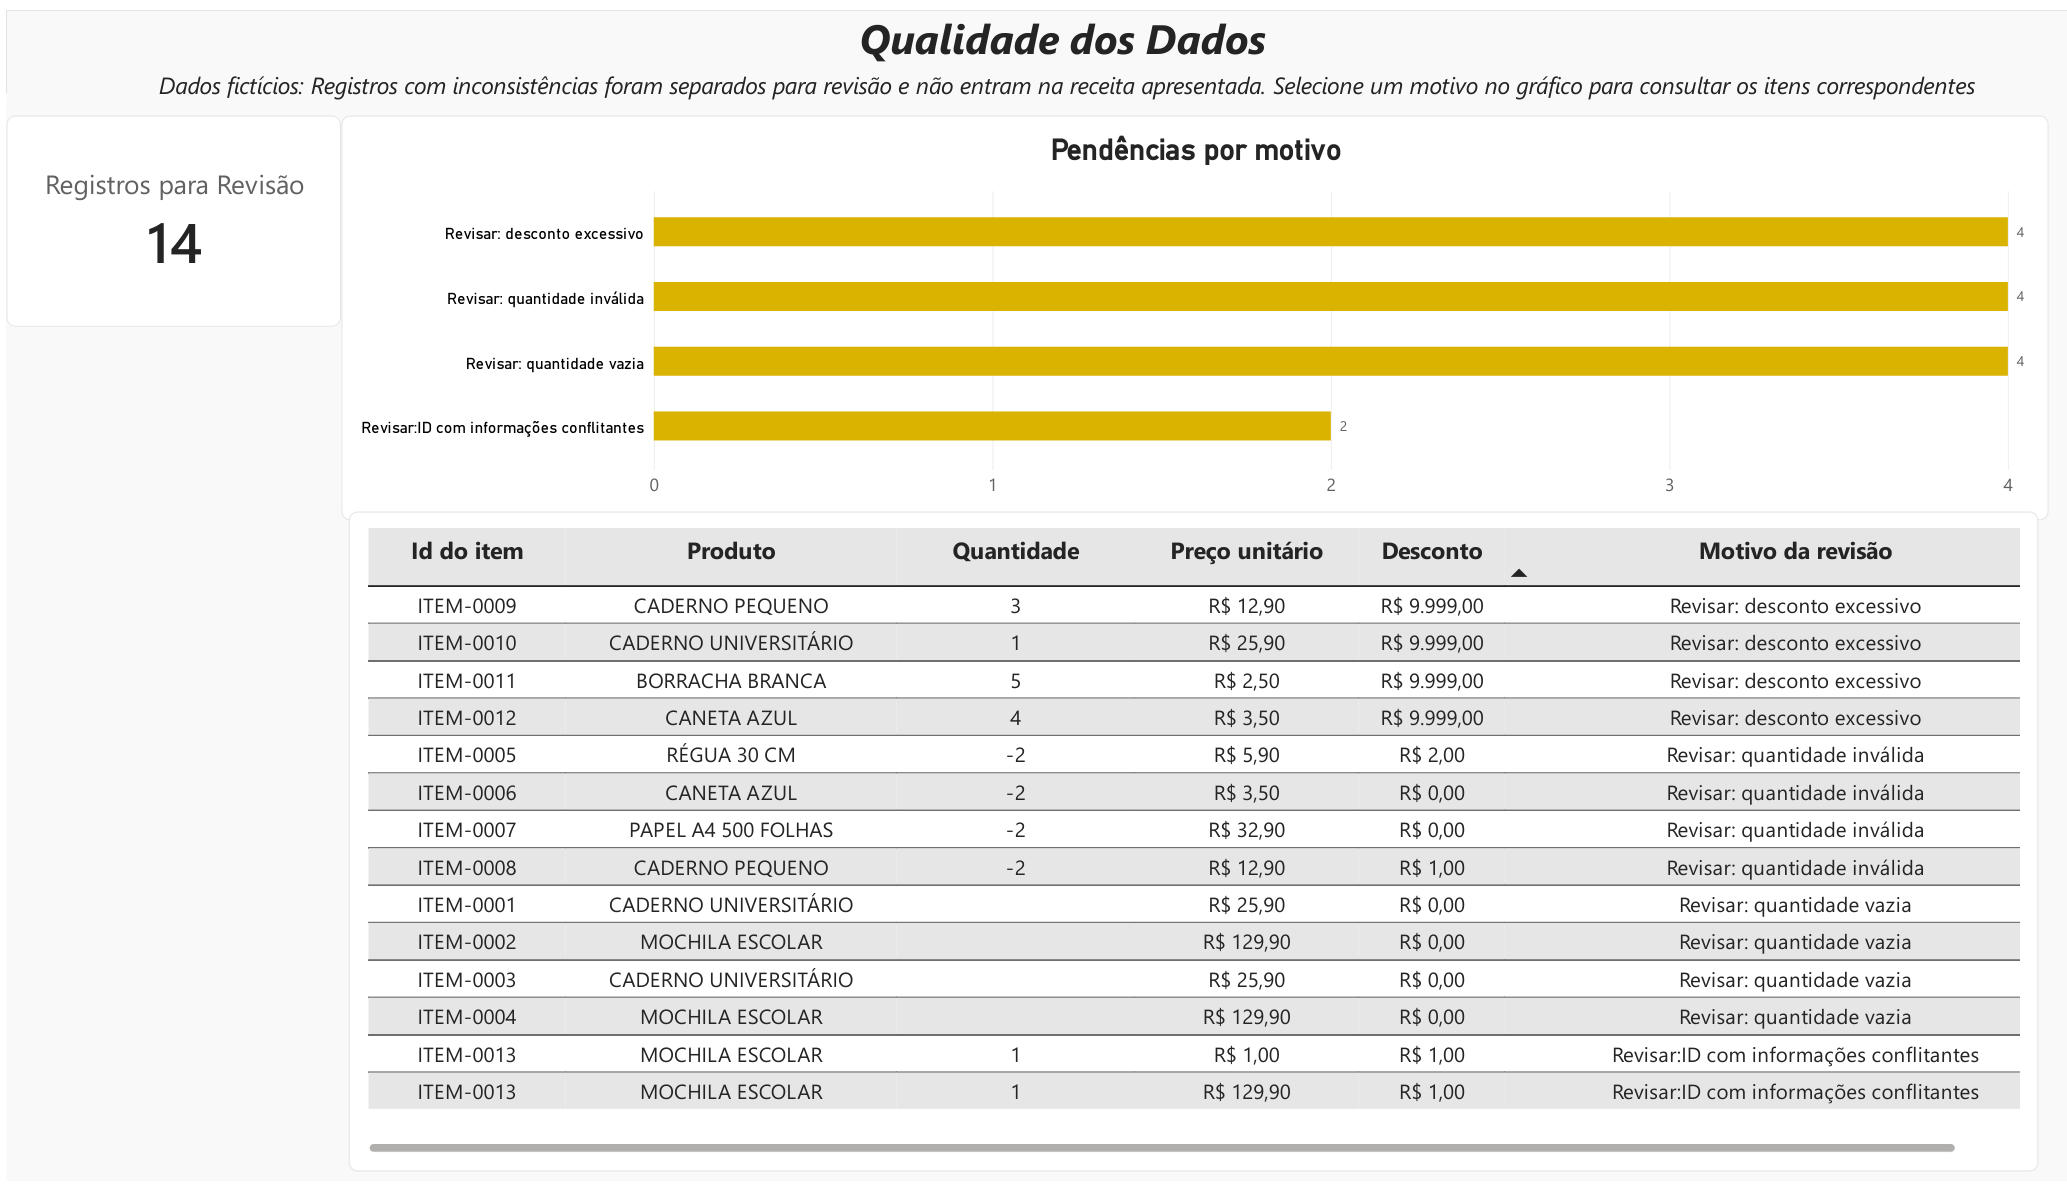

The page's visual inventory and layout, read from the dashboard file:
{"tool":"powerbi","page":{"name":"Qualidade dos Dados","canvas":[1920,1080],"ordinal":1},"visuals":[{"type":"cardVisual","fields":{"Data":["Vendas_Aprovadas.Registros para Revisão"]},"box":[0,96,304,192],"z":0},{"type":"barChart","title":"Pendências por motivo","fields":{"Category":["Vendas_Para_Revisao.status_final"],"Y":["Vendas_Aprovadas.Registros para Revisão"]},"box":[304,96,1552,368],"z":1},{"type":"tableEx","fields":{"Values":["Vendas_Para_Revisao.id_item","Vendas_Para_Revisao.produto","Vendas_Para_Revisao.quantidade","Vendas_Para_Revisao.preco_unitario","Vendas_Para_Revisao.desconto","Vendas_Para_Revisao.status_final"]},"box":[312,456,1536,600],"z":2},{"type":"textbox","box":[0,0,1920,96],"z":3}]}

Visuals, with their boxes in screenshot pixels (x1, y1, x2, y2), scaled from the page's 1920x1080 canvas onto the 2067x1185 screenshot:
cardVisual - Vendas_Aprovadas.Registros para Revisão: rect(0, 105, 327, 316)
"Pendências por motivo" barChart: rect(327, 105, 1998, 509)
tableEx - Vendas_Para_Revisao.id_item x Vendas_Para_Revisao.produto: rect(336, 500, 1989, 1159)
textbox: rect(0, 0, 2066, 105)
